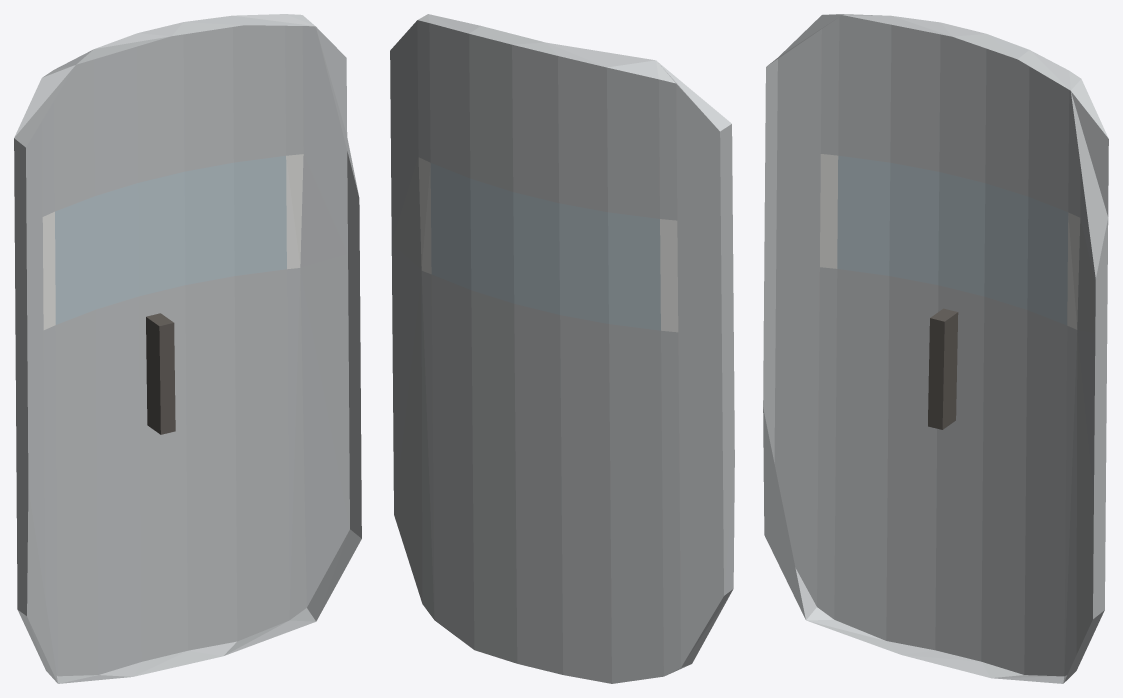
File: CE_BallisticShield.glb
3 renders of one model, left to right at view 1: azimuth 30°, elevation 25°; view 2: azimuth 150°, elevation 25°; view 3: azimuth 330°, elevation 25°, orthographic.
Visible parts, largest first — view 1: CE_BallisticShield; view 2: CE_BallisticShield; view 3: CE_BallisticShield.
Boxes of the visible parts, box(x1,y1,x2,y2) form: CE_BallisticShield: box(14, 14, 361, 683); CE_BallisticShield: box(390, 14, 734, 683); CE_BallisticShield: box(763, 14, 1108, 683).
Size of the model in its own units: 7.2 by 13.01 by 1.35.
Materials: 2 (1 with a texture image).
